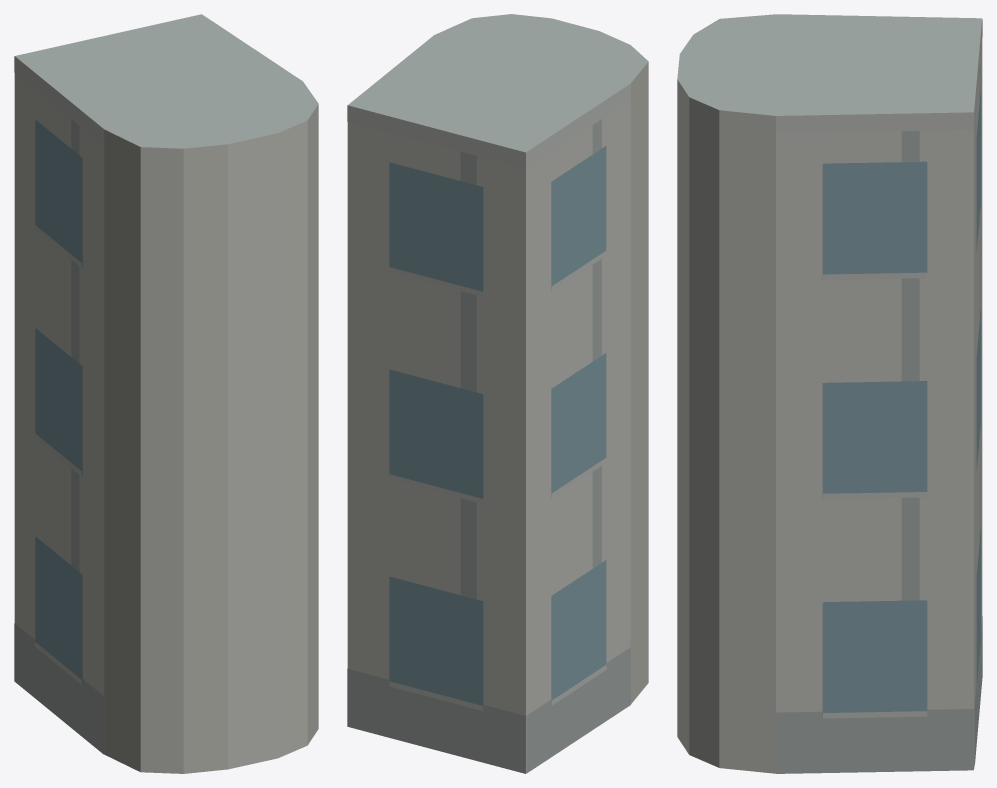
File: survey-upis-32647953.glb
The picture shows the model from 3 angles, left to right: view 1: azimuth 30°, elevation 25°; view 2: azimuth 150°, elevation 25°; view 3: azimuth 270°, elevation 25°; orthographic projection. The views are drawn at different scales.
Parts seen in each view (by area): view 1: survey-upis-32647953.tmp; view 2: survey-upis-32647953.tmp; view 3: survey-upis-32647953.tmp.
Boxes of the visible parts, x1,y1,x2,y2 form: survey-upis-32647953.tmp: (14, 14, 318, 773); survey-upis-32647953.tmp: (347, 14, 648, 773); survey-upis-32647953.tmp: (677, 14, 982, 773).
Size of the model in its own units: 3.05 by 9.15 by 3.85.
